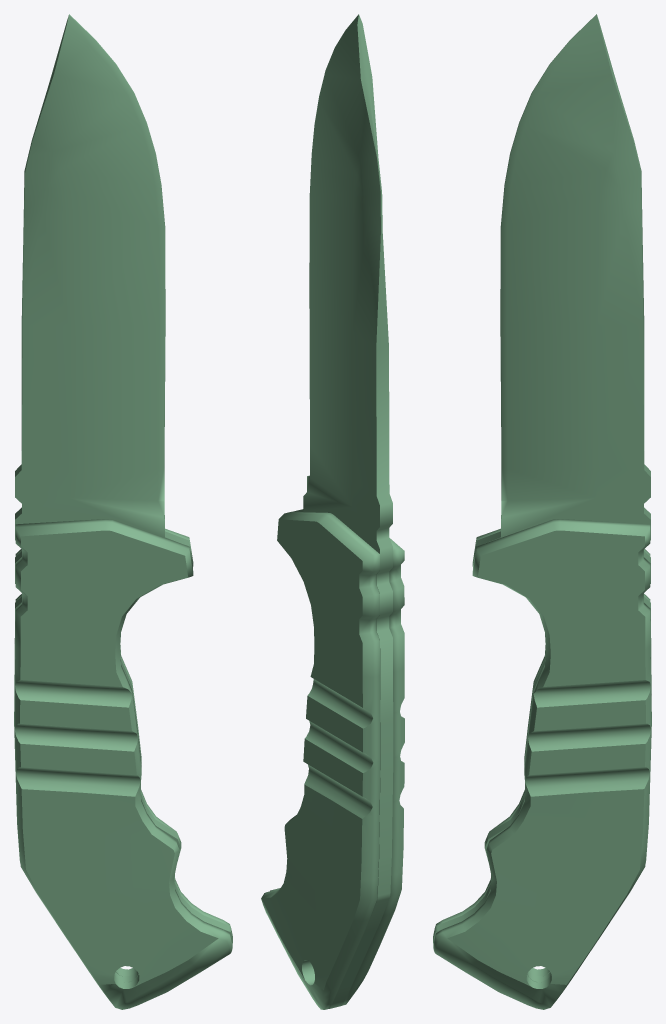
The model's file is Knife_01_Mesh.FBX.
3 renders of one model, left to right at view 1: azimuth 90°, elevation 25°; view 2: azimuth 210°, elevation 25°; view 3: azimuth 270°, elevation 25°, orthographic. The views are drawn at different scales.
Parts seen in each view (by area): view 1: Knife_01_Mesh; view 2: Knife_01_Mesh; view 3: Knife_01_Mesh.
Boxes of the visible parts, x1=… form: Knife_01_Mesh: x1=14, y1=14, x2=232, y2=1009; Knife_01_Mesh: x1=261, y1=14, x2=404, y2=1009; Knife_01_Mesh: x1=433, y1=14, x2=651, y2=1009.
Bounding box in the file's own units: 1.56 × 7.18 × 35.89.
